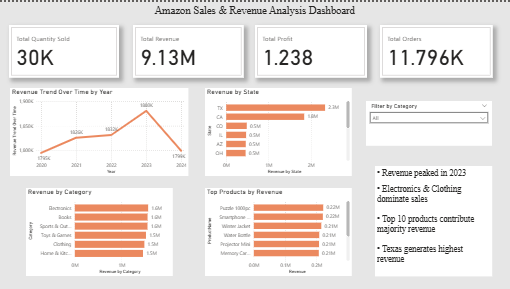

What the dashboard file says about the page in this screenshot:
{"tool":"powerbi","page":{"name":"Page 1","canvas":[1280,720],"ordinal":0},"visuals":[{"type":"cardVisual","title":"Total Quantity Sold","fields":{"Data":["Sum(Amazon.Quantity)"]},"box":[25,58.3,275,131.7],"z":0},{"type":"cardVisual","title":"Total Orders","fields":{"Data":["CountNonNull(Amazon.OrderID)"]},"box":[951.7,58.3,281.7,131.7],"z":1000},{"type":"cardVisual","title":"Total Profit","fields":{"Data":["Min(Amazon.Profit)"]},"box":[640,58.3,280,131.7],"z":2000},{"type":"cardVisual","title":"Total Revenue","fields":{"Data":["Sum(Amazon.Revenue)"]},"box":[335,58.3,276.7,131.7],"z":3000},{"type":"lineChart","fields":{"Category":["Amazon.OrderDate.Variation.Date Hierarchy.Year","Amazon.OrderDate.Variation.Date Hierarchy.Quarter","Amazon.OrderDate.Variation.Date Hierarchy.Month","Amazon.OrderDate.Variation.Date Hierarchy.Day"],"Y":["Sum(Amazon.Revenue)"]},"box":[28,216,446,220],"z":4000},{"type":"clusteredBarChart","title":"Revenue by Category","fields":{"Category":["Amazon.Category"],"Y":["Sum(Amazon.Revenue)"]},"box":[66.7,465,366.7,220],"z":5000},{"type":"clusteredBarChart","title":"Top Products by Revenue","fields":{"Category":["Amazon.ProductName"],"Y":["Sum(Amazon.Revenue)"]},"box":[515,465,366.7,220],"z":6000},{"type":"clusteredBarChart","title":"Revenue by State","fields":{"Category":["Amazon.State"],"Y":["Sum(Amazon.Revenue)"]},"box":[515,215,366.7,220],"z":7000},{"type":"slicer","fields":{"Values":["Amazon.Category"]},"box":[918.3,248.3,315,111.7],"z":8000},{"type":"textbox","box":[360,0,558.3,45],"z":9000},{"type":"textbox","box":[940,410,292.9,275.7],"z":9001}]}

Visuals, with their boxes in screenshot pixels (x1, y1, x2, y2), scaled from the page's 1280x720 canvas onto the 510x289 screenshot:
"Total Quantity Sold" cardVisual: (10,23,120,76)
"Total Orders" cardVisual: (379,23,491,76)
"Total Profit" cardVisual: (255,23,367,76)
"Total Revenue" cardVisual: (133,23,244,76)
lineChart - Amazon.OrderDate.Variation.Date Hierarchy.Year x Amazon.OrderDate.Variation.Date Hierarchy.Quarter: (11,87,189,175)
"Revenue by Category" clusteredBarChart: (27,187,173,275)
"Top Products by Revenue" clusteredBarChart: (205,187,351,275)
"Revenue by State" clusteredBarChart: (205,86,351,175)
slicer - Amazon.Category: (366,100,491,144)
textbox: (143,0,366,18)
textbox: (375,165,491,275)
